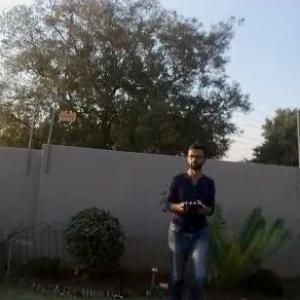follow: (157, 141, 221, 299)
